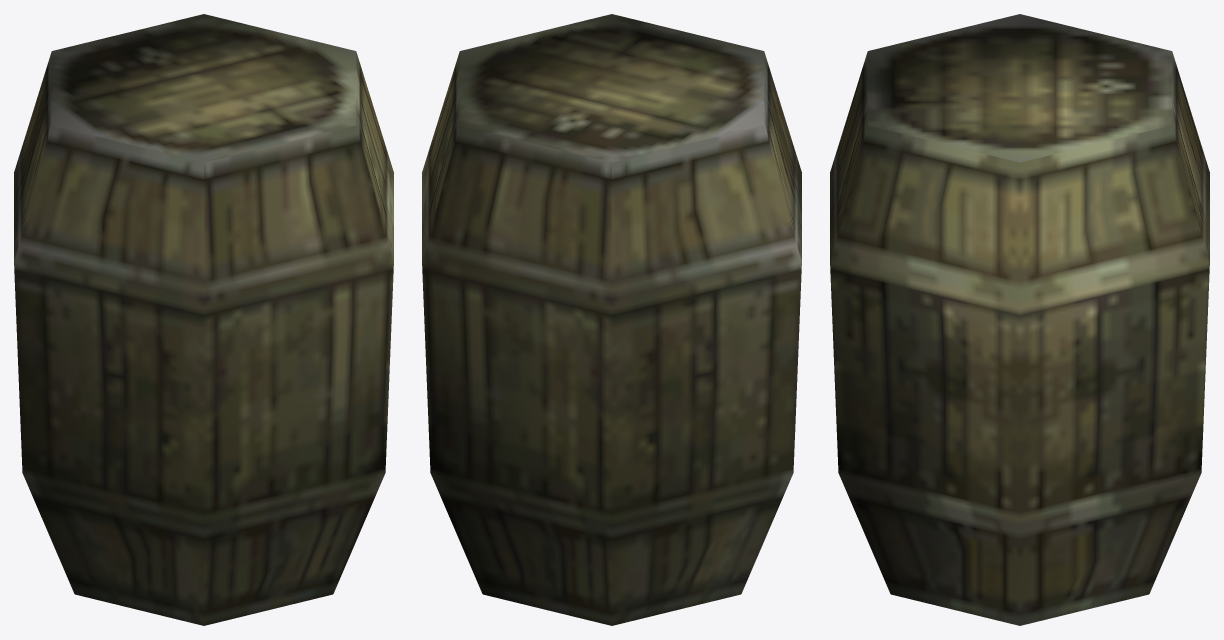
Rendered from OZ_20_nk_wobj02A.glb.
3 views of the same model, side by side, from view 1: azimuth 30°, elevation 25°; view 2: azimuth 150°, elevation 25°; view 3: azimuth 270°, elevation 25° (orthographic).
Visible parts, largest first — view 1: OM_20_nk_wobj02A; view 2: OM_20_nk_wobj02A; view 3: OM_20_nk_wobj02A.
Part boxes in pixels (<box>): OM_20_nk_wobj02A: <box>14,14,393,625</box>; OM_20_nk_wobj02A: <box>422,14,801,625</box>; OM_20_nk_wobj02A: <box>830,14,1209,625</box>.
Bounding box in the file's own units: 1.06 × 1.27 × 0.9207.
1 material, 1 textured.
